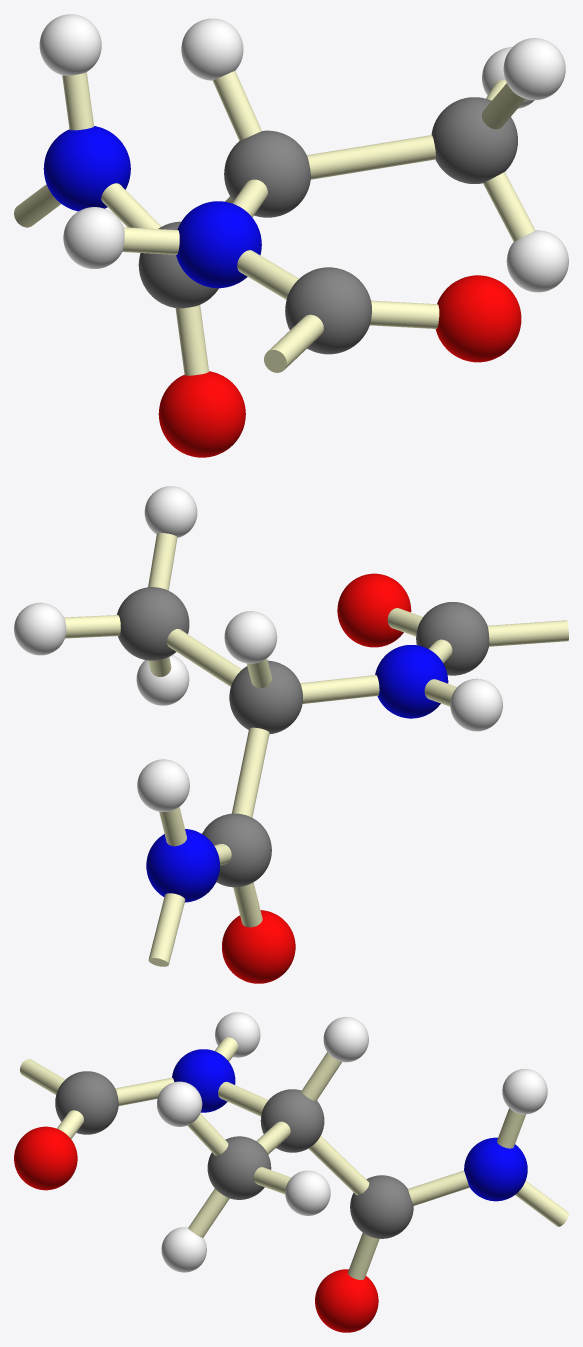
Rendered from conformation.gltf.
3 renders of one model, top to bottom at view 1: azimuth 30°, elevation 25°; view 2: azimuth 150°, elevation 25°; view 3: azimuth 270°, elevation 25°, orthographic. The views are drawn at different scales.
Visible parts, largest first — view 1: ?????????6, ?????????2, ?????????3, ?????????13, ?????????9, ?????????1, ?????????4, ?????????22, ?????????10, ?????????14, ?????????7, ?????????8 (+15 smaller); view 2: ?????????6, ?????????9, ?????????2, ?????????13, ?????????3, ?????????4, ?????????1, ?????????5, ?????????7, ?????????8, ?????????11, ?????????14 (+12 smaller); view 3: ?????????2, ?????????6, ?????????13, ?????????5, ?????????1, ?????????9, ?????????4, ?????????3, ?????????11, ?????????14, ?????????10, ?????????8 (+16 smaller).
Boxes of the visible parts, x1,y1,x2,y2 form: ?????????6: (158,371,245,457); ?????????2: (435,275,521,362); ?????????3: (176,201,261,288); ?????????13: (43,126,130,211); ?????????9: (431,97,517,183); ?????????1: (285,267,371,354); ?????????4: (224,130,310,217); ?????????22: (307,135,435,179); ?????????10: (503,38,565,100); ?????????14: (39,14,101,75); ?????????7: (63,207,124,268); ?????????8: (181,18,243,80); ?????????6: (222,910,295,983); ?????????9: (117,587,189,660); ?????????2: (337,573,411,647); ?????????13: (146,829,219,902); ?????????3: (375,645,448,718); ?????????4: (229,660,302,733); ?????????1: (416,602,489,675); ?????????5: (202,813,271,887); ?????????7: (450,678,502,731); ?????????8: (224,611,277,663); ?????????11: (14,602,66,655); ?????????14: (137,759,189,811); ?????????2: (14,1126,77,1190); ?????????6: (315,1269,378,1332); ?????????13: (464,1137,527,1201); ?????????5: (350,1175,413,1238); ?????????1: (55,1071,118,1134); ?????????9: (207,1136,271,1199); ?????????4: (260,1089,324,1152); ?????????3: (172,1049,235,1112); ?????????11: (285,1170,330,1215); ?????????14: (502,1069,547,1114); ?????????10: (157,1081,202,1126); ?????????8: (323,1017,368,1062).
Bounding box in the file's own units: 48.29 × 39.28 × 61.04.
